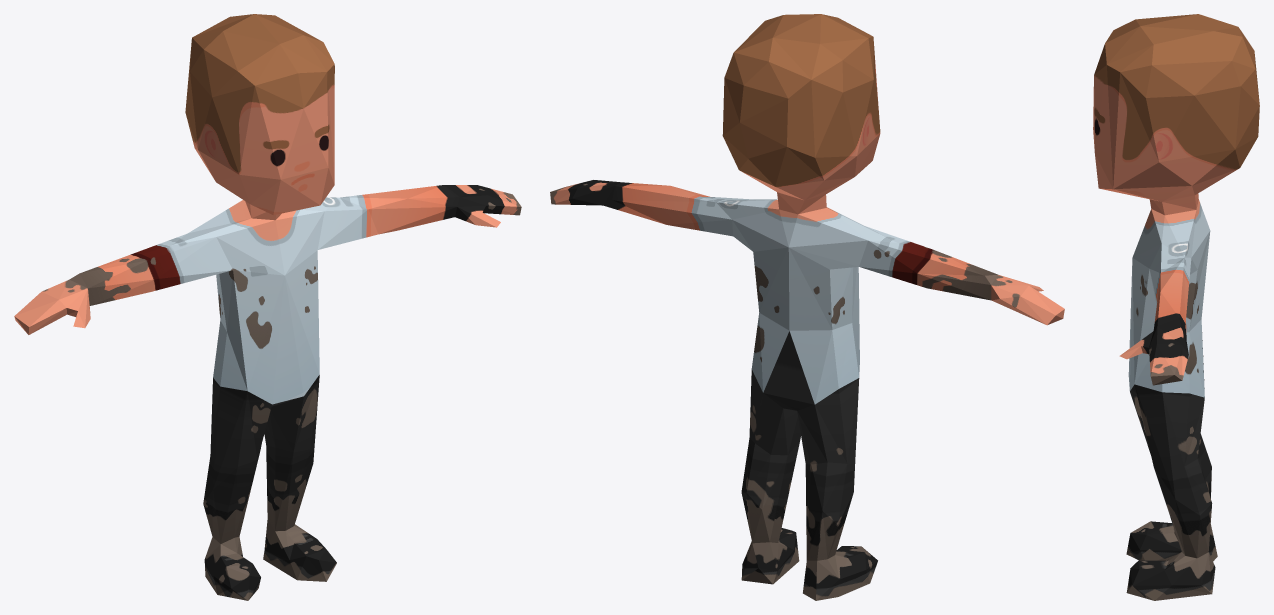
The model's file is persona.obj.
The picture shows the model from 3 angles, left to right: view 1: azimuth 30°, elevation 25°; view 2: azimuth 150°, elevation 25°; view 3: azimuth 270°, elevation 25°; orthographic projection.
Parts seen in each view (by area): view 1: characterMedium; view 2: characterMedium; view 3: characterMedium.
Boxes of the visible parts, <box> form: characterMedium: <box>14,14,521,600</box>; characterMedium: <box>550,14,1064,600</box>; characterMedium: <box>1093,14,1259,600</box>.
Size of the model in its own units: 3.61 by 3.76 by 1.04.
Materials: 1 (1 with a texture image).
